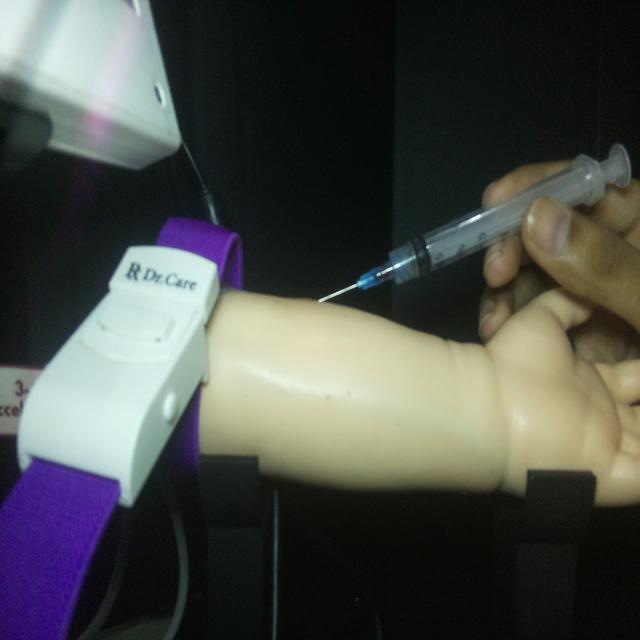15 degrees: (316, 140, 632, 306)
